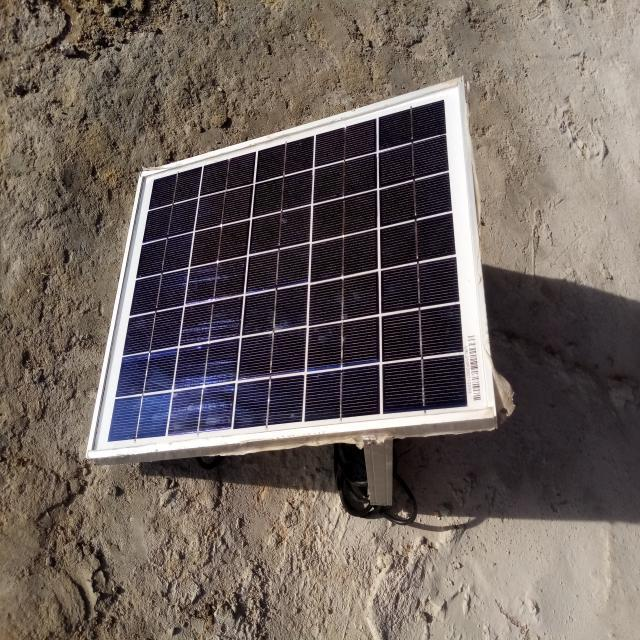Normal Solar Panel: (89, 80, 495, 453)
